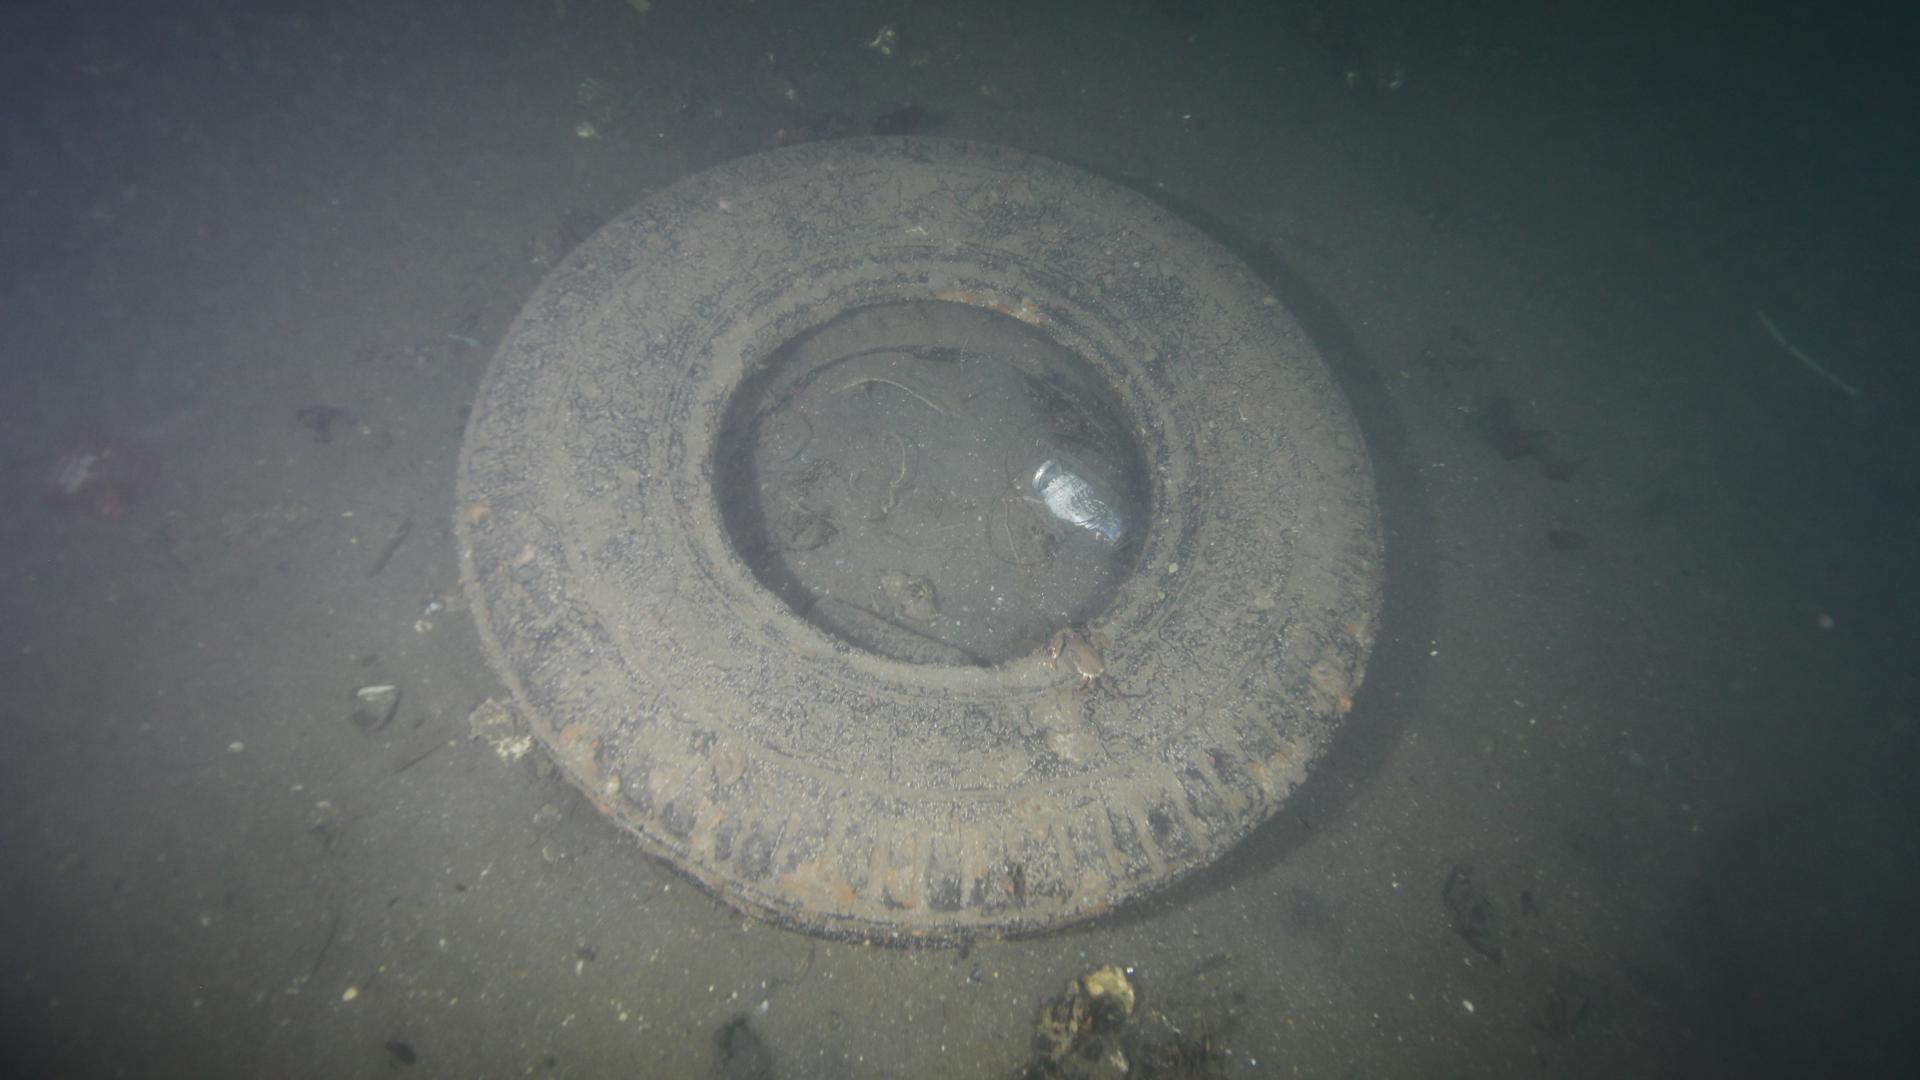tire: (447, 124, 1393, 956)
